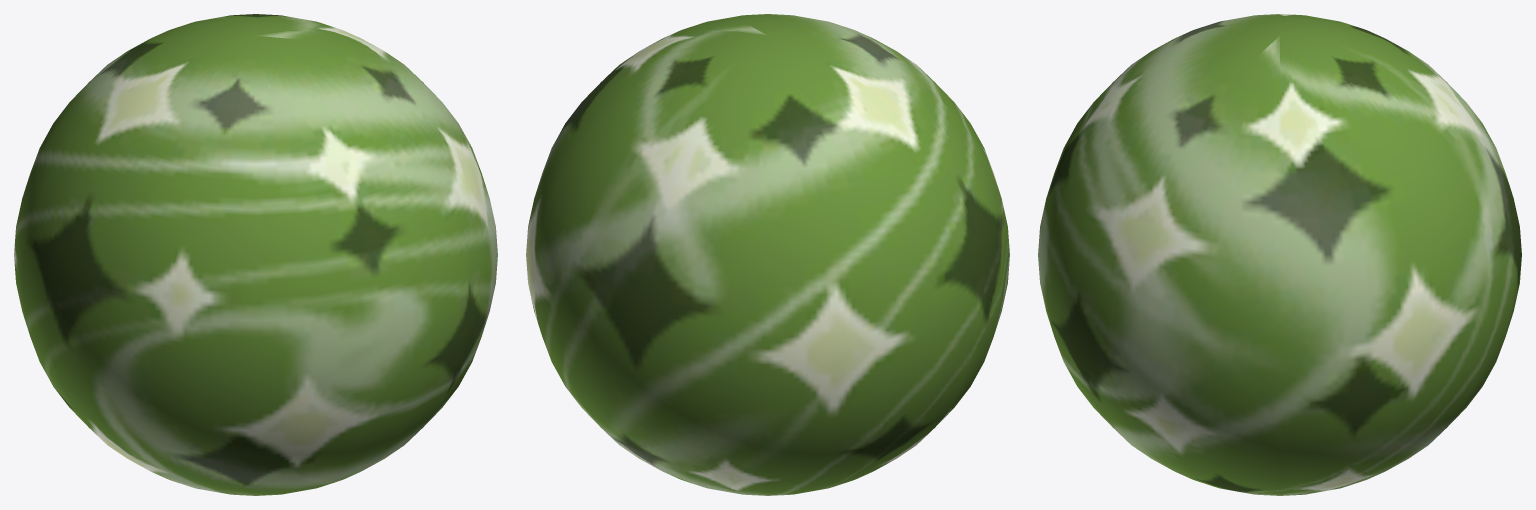
File: bwg_ball_pro__bwg_ball_green_pro.glb
The picture shows the model from 3 angles, left to right: view 1: azimuth 30°, elevation 25°; view 2: azimuth 150°, elevation 25°; view 3: azimuth 270°, elevation 25°; orthographic projection.
Parts seen in each view (by area): view 1: polygon0; view 2: polygon0; view 3: polygon0.
Boxes of the visible parts, <box> form: polygon0: <box>14,14,497,495</box>; polygon0: <box>526,14,1009,495</box>; polygon0: <box>1038,14,1521,495</box>.
Bounding box in the file's own units: 2.18 × 2.18 × 2.18.
Materials: 1 (1 with a texture image).
